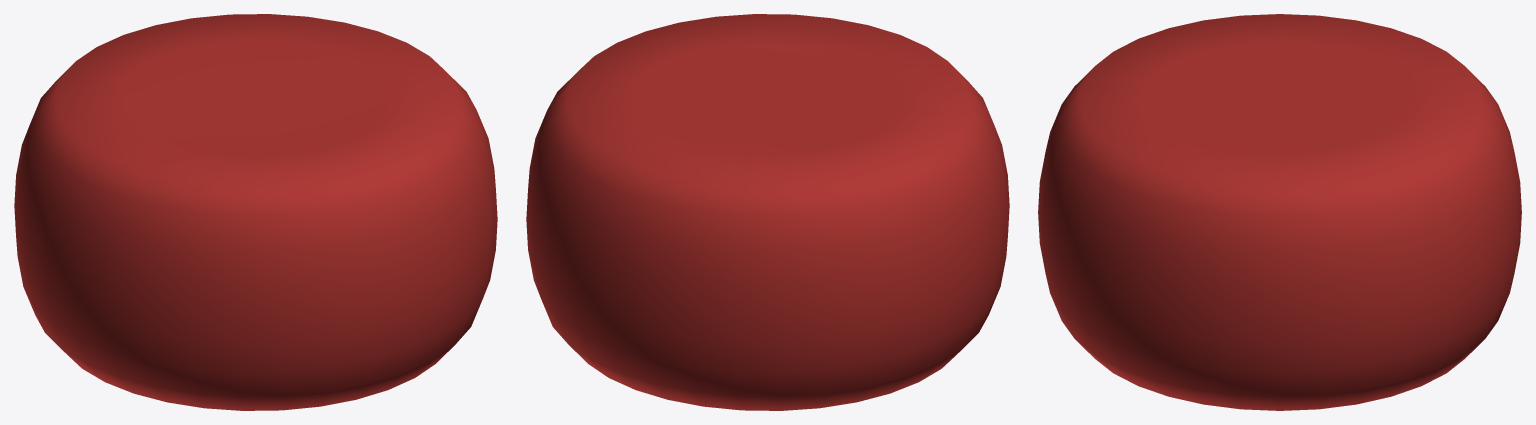
The model's file is bouncy_wall-round1.fbx.
3 views of the same model, side by side, from view 1: azimuth 30°, elevation 25°; view 2: azimuth 150°, elevation 25°; view 3: azimuth 270°, elevation 25° (orthographic).
Visible parts, largest first — view 1: bouncyBlob1; view 2: bouncyBlob1; view 3: bouncyBlob1.
Boxes of the visible parts, x1,y1,x2,y2 form: bouncyBlob1: (14, 14, 497, 410); bouncyBlob1: (526, 14, 1009, 410); bouncyBlob1: (1038, 14, 1521, 410).
Bounding box in the file's own units: 95.66 × 50 × 95.66.
